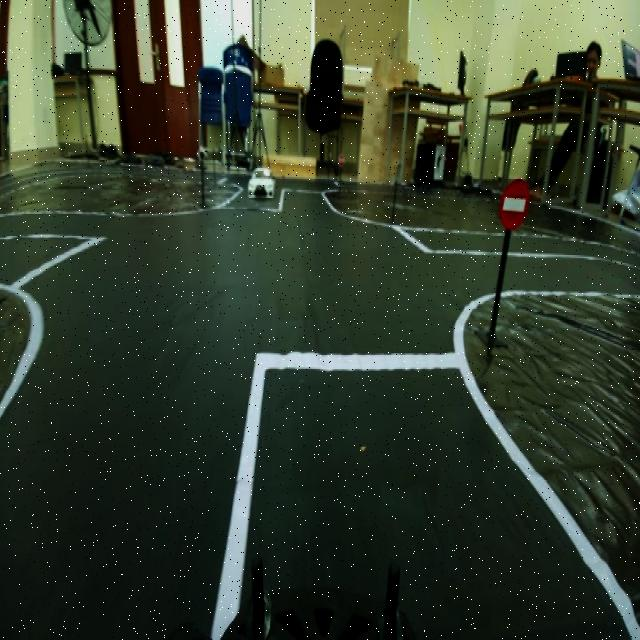no_entry: (500, 174, 529, 241)
